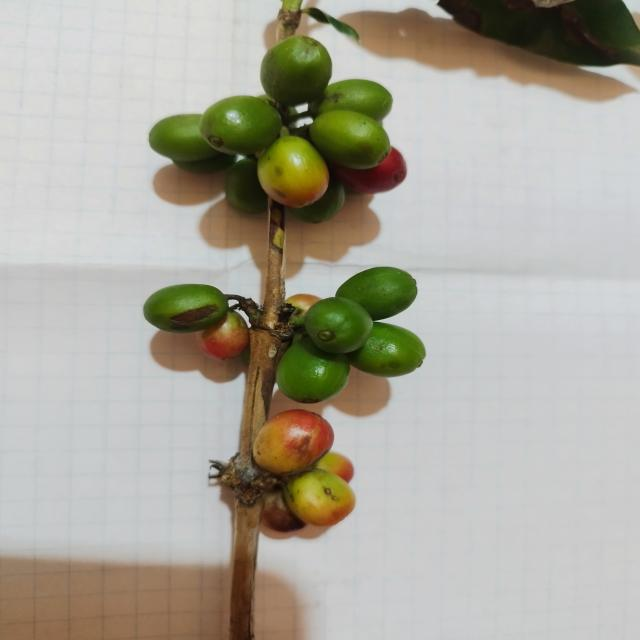Danado: (253, 409, 335, 483), (141, 285, 233, 337), (282, 469, 356, 530)
Sano: (257, 136, 329, 209), (199, 96, 283, 158), (260, 35, 332, 106), (309, 110, 391, 170), (335, 267, 418, 322), (347, 321, 426, 378), (304, 297, 374, 354)
